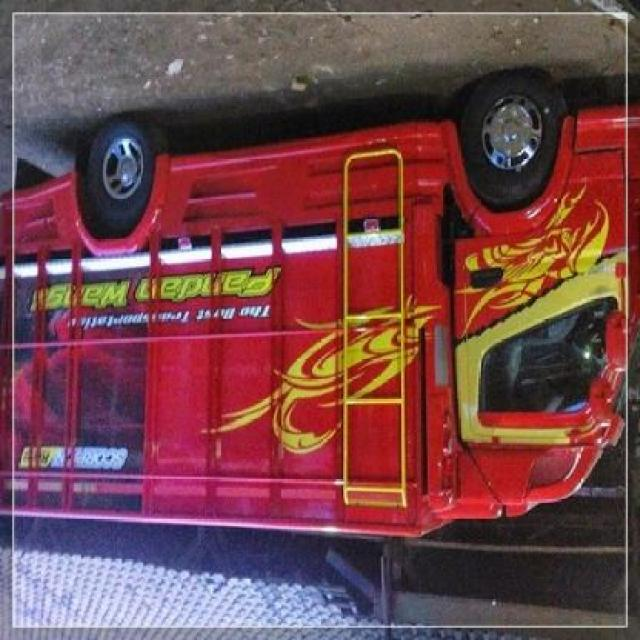truck: (1, 77, 639, 537)
